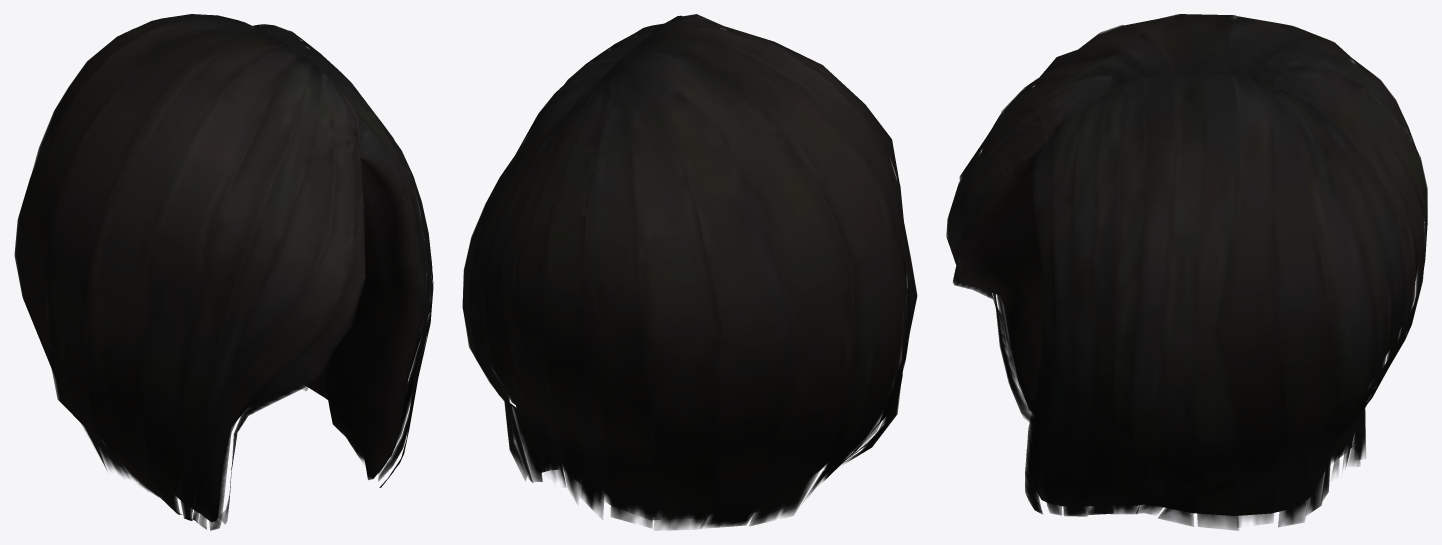
Rendered from hair_bob.glb.
3 renders of one model, left to right at view 1: azimuth 30°, elevation 25°; view 2: azimuth 150°, elevation 25°; view 3: azimuth 270°, elevation 25°, orthographic. The views are drawn at different scales.
Parts seen in each view (by area): view 1: hair_bob; view 2: hair_bob; view 3: hair_bob.
Part boxes in pixels (x1=…): hair_bob: x1=14, y1=14, x2=433, y2=530; hair_bob: x1=462, y1=14, x2=917, y2=530; hair_bob: x1=946, y1=14, x2=1427, y2=530.
Size of the model in its own units: 0.2013 by 0.2336 by 0.2262.
Materials: 1 (1 with a texture image).
